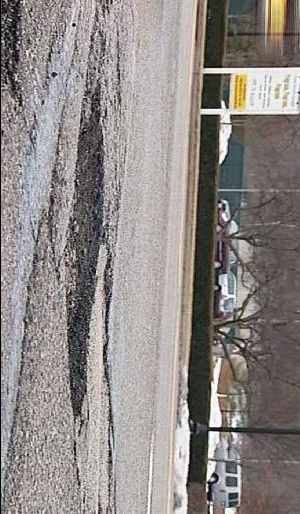pothole: (64, 96, 104, 417), (0, 0, 23, 98)
